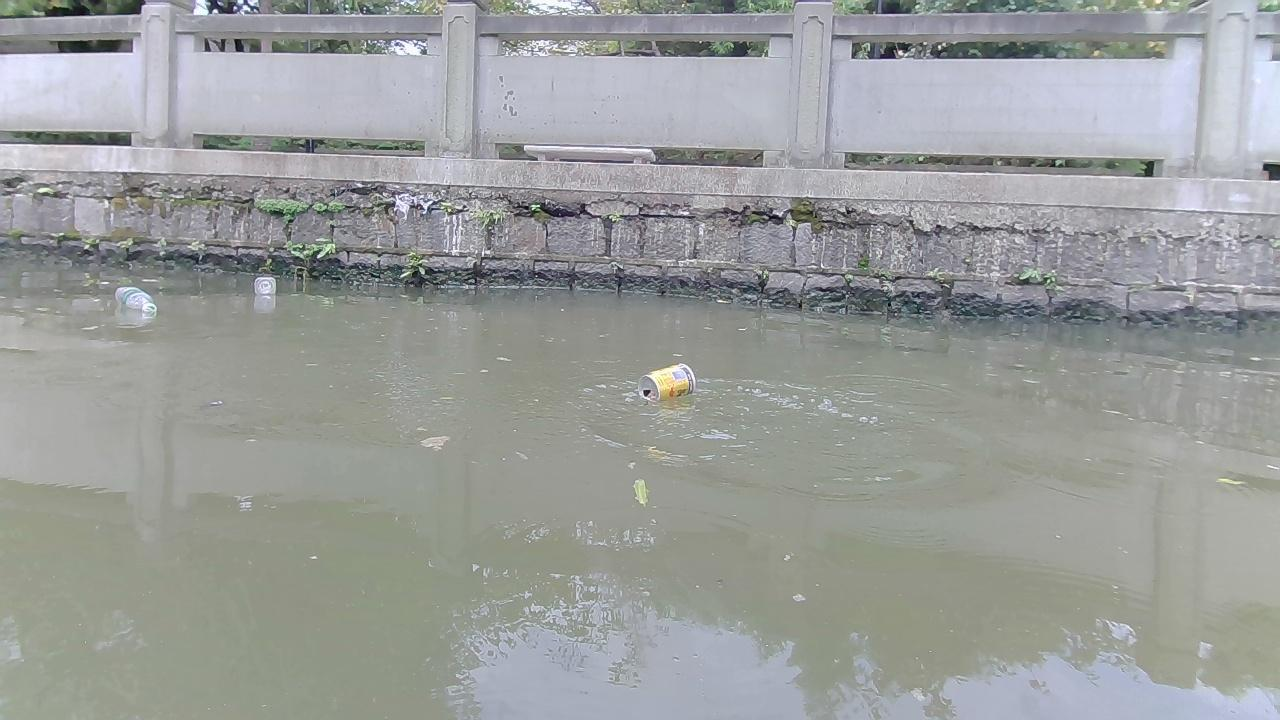bottle: (637, 362, 696, 402), (113, 285, 155, 312), (252, 276, 275, 294)
